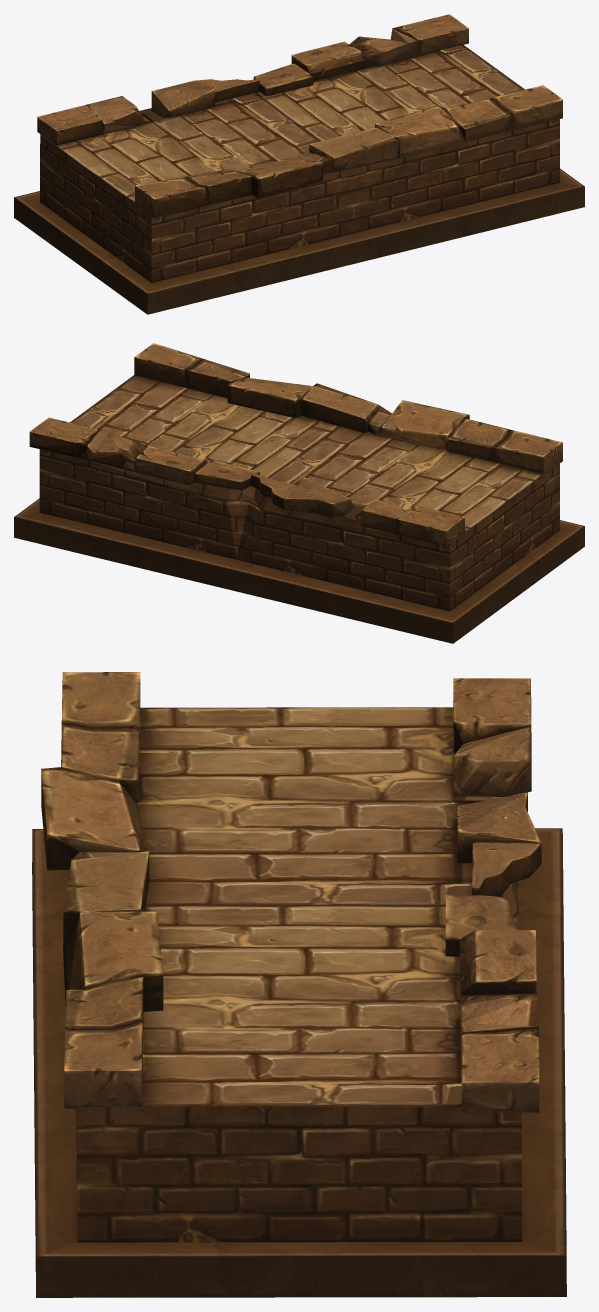
The model's file is Qiao01.FBX.
3 views of the same model, one above another, from view 1: azimuth 30°, elevation 25°; view 2: azimuth 150°, elevation 25°; view 3: azimuth 270°, elevation 25° (orthographic). The views are drawn at different scales.
Parts seen in each view (by area): view 1: Qiao01; view 2: Qiao01; view 3: Qiao01.
Boxes of the visible parts, bbox=[...] form: Qiao01: bbox=[14, 14, 584, 314]; Qiao01: bbox=[14, 343, 584, 643]; Qiao01: bbox=[32, 672, 566, 1297].
Bounding box in the file's own units: 341 × 78.71 × 180.
